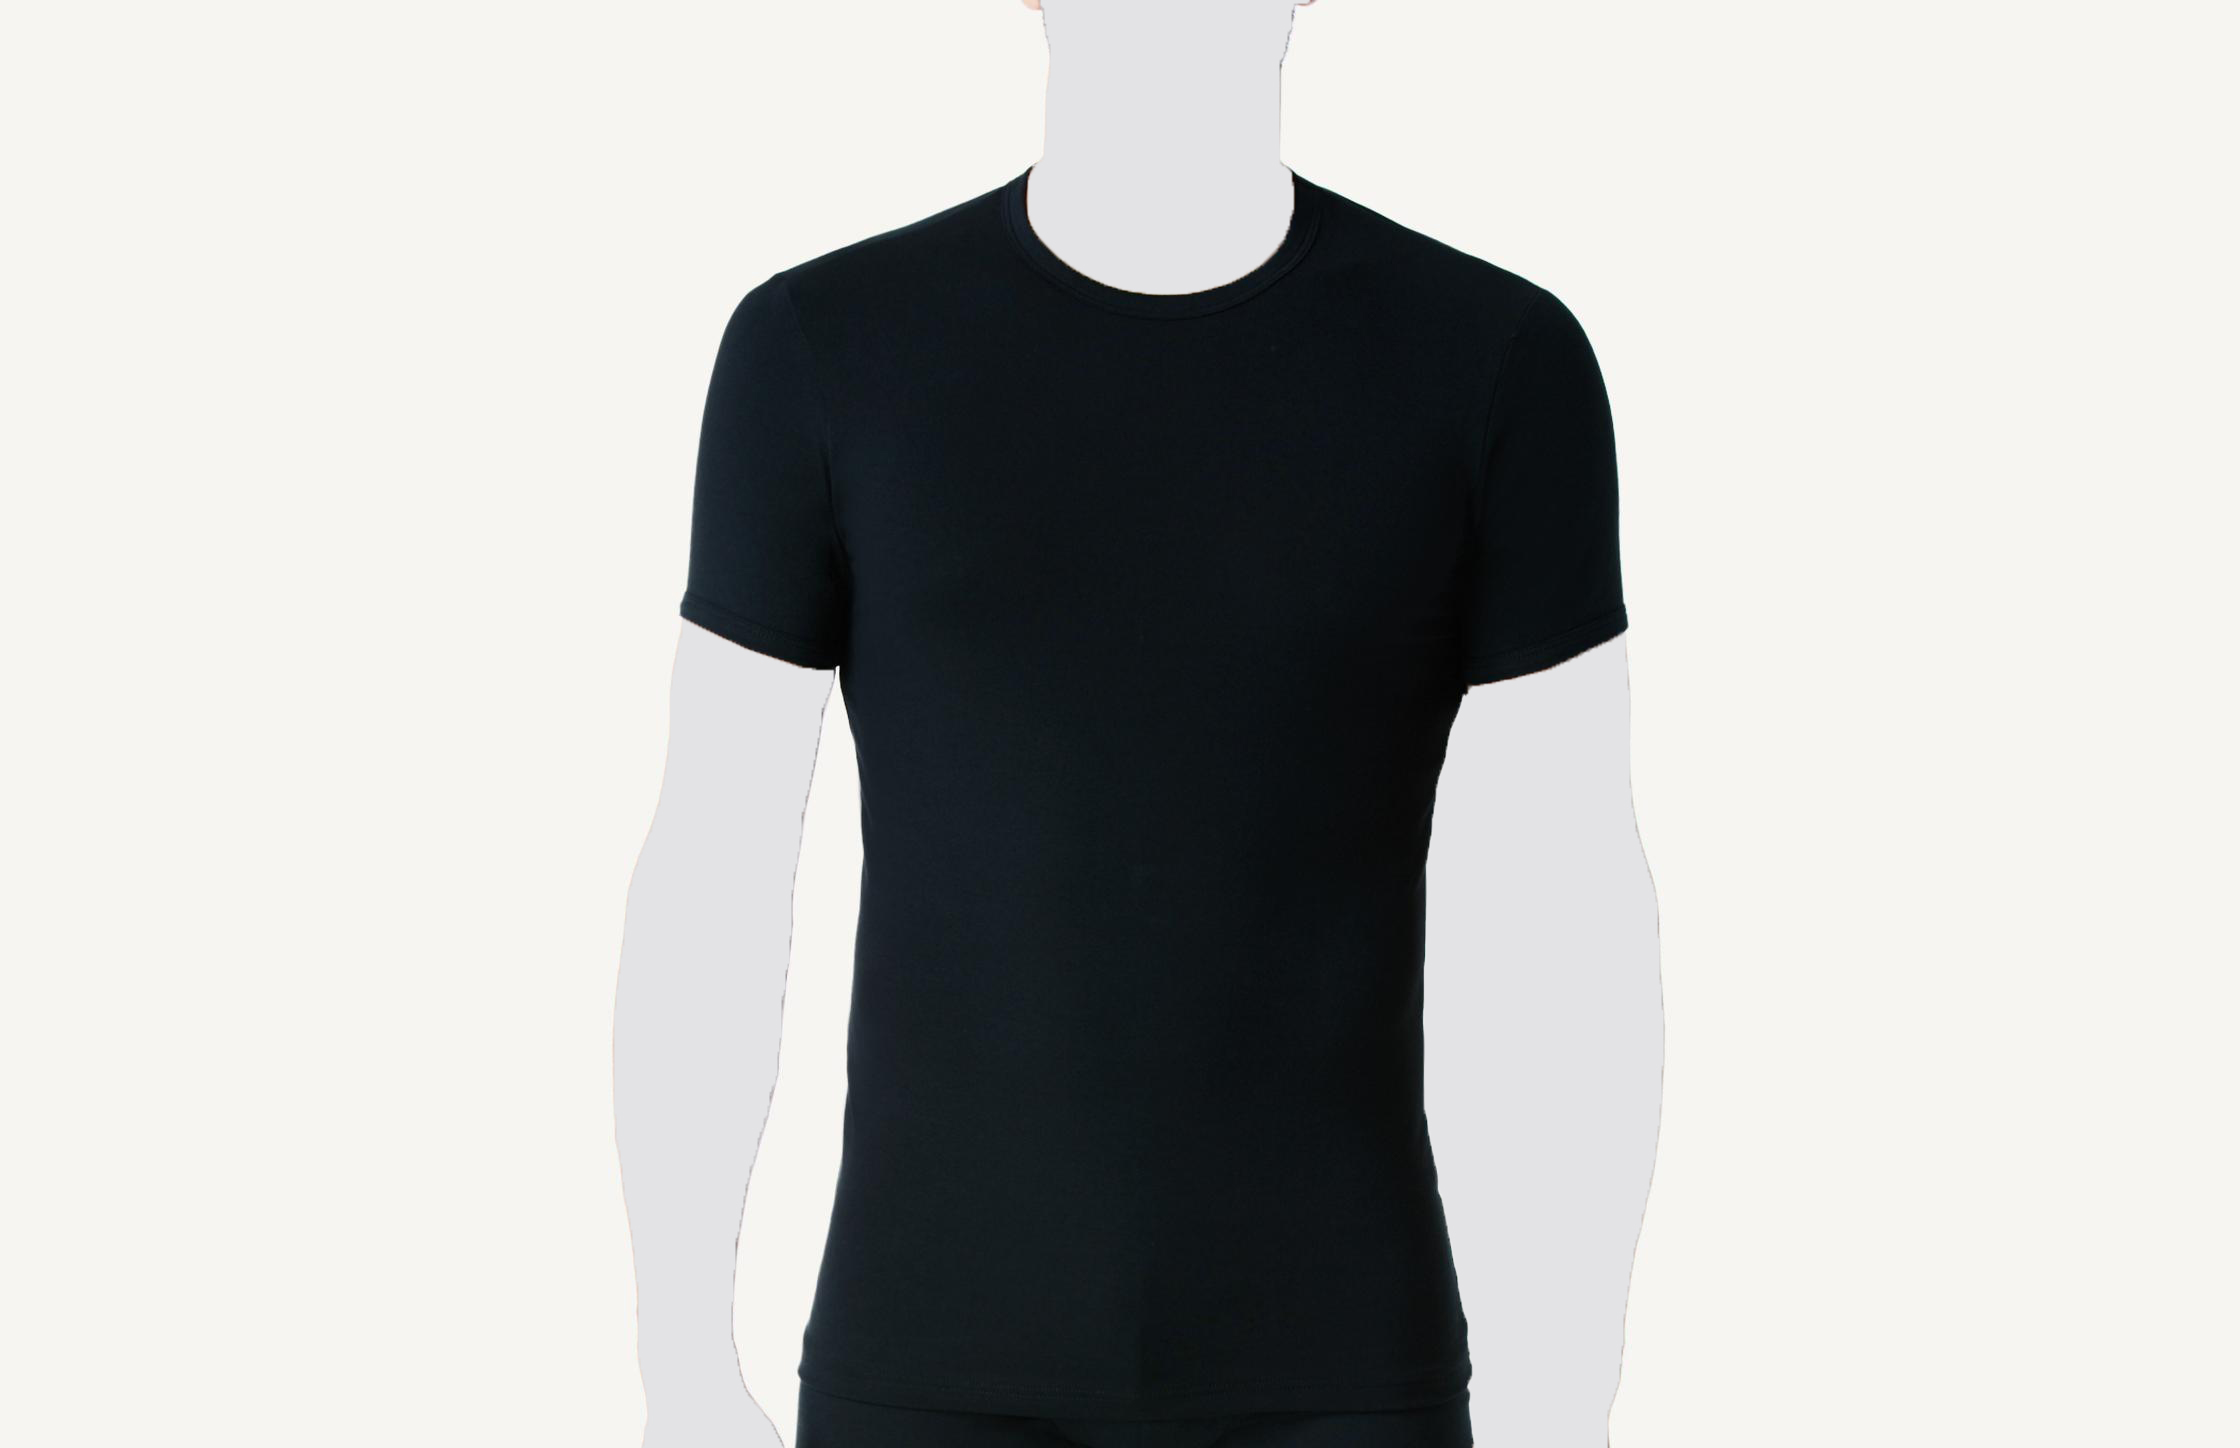teeshirt: (678, 140, 1638, 1448)
